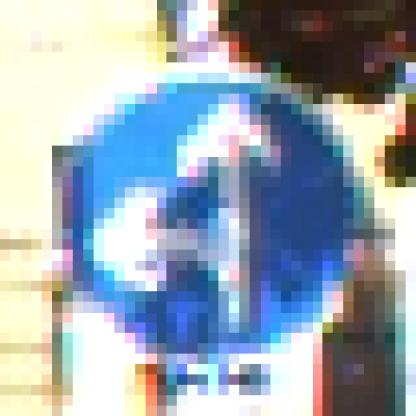Straight or Left: (53, 53, 365, 365)
